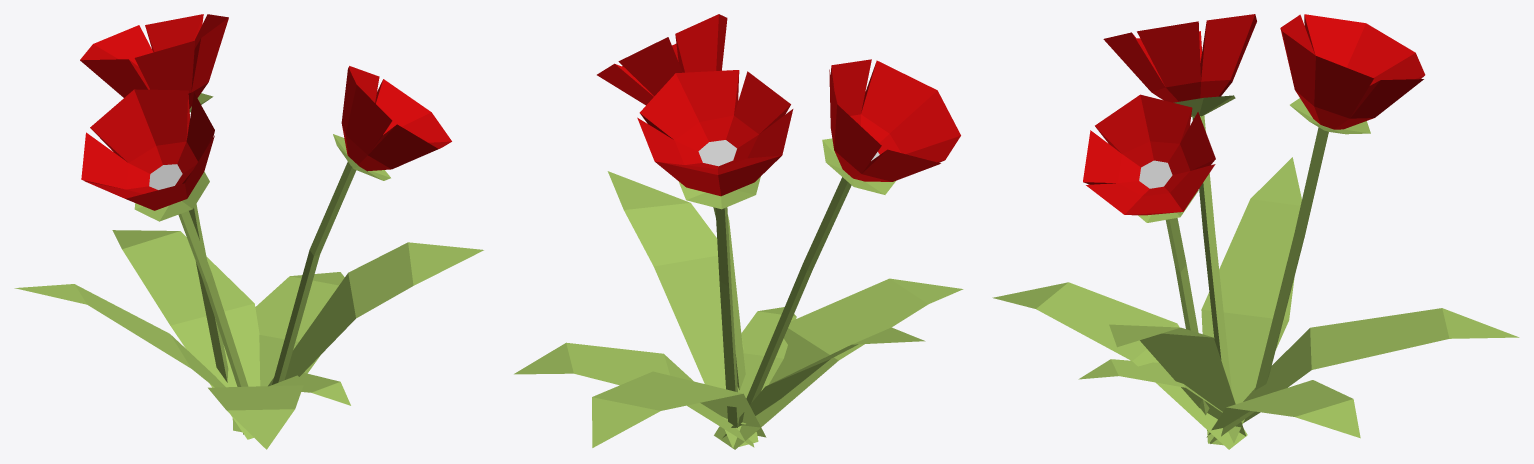
The model's file is flower03.fbx.
3 views of the same model, side by side, from view 1: azimuth 30°, elevation 25°; view 2: azimuth 150°, elevation 25°; view 3: azimuth 270°, elevation 25° (orthographic). The views are drawn at different scales.
Parts seen in each view (by area): view 1: flower_03; view 2: flower_03; view 3: flower_03.
Part boxes in pixels (x1,y1,x2,y2): flower_03: [14, 14, 483, 449]; flower_03: [514, 14, 963, 449]; flower_03: [992, 14, 1519, 449].
Size of the model in its own units: 0.7997 by 0.9086 by 0.749.
